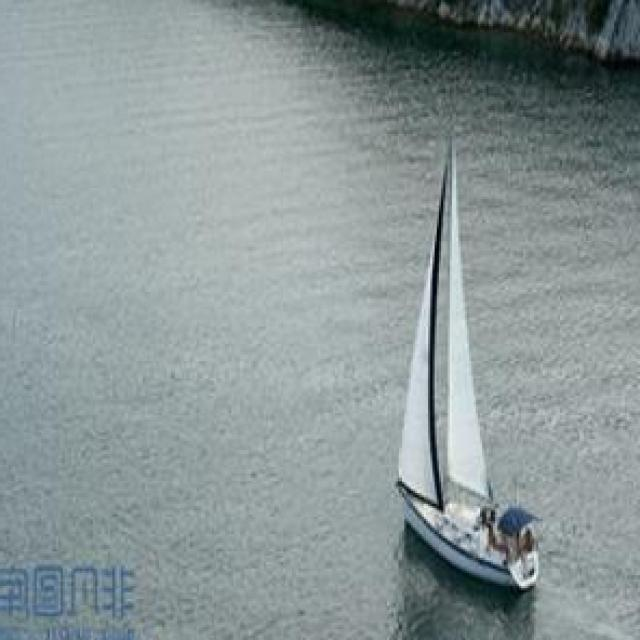sailboat: (388, 136, 542, 598)
